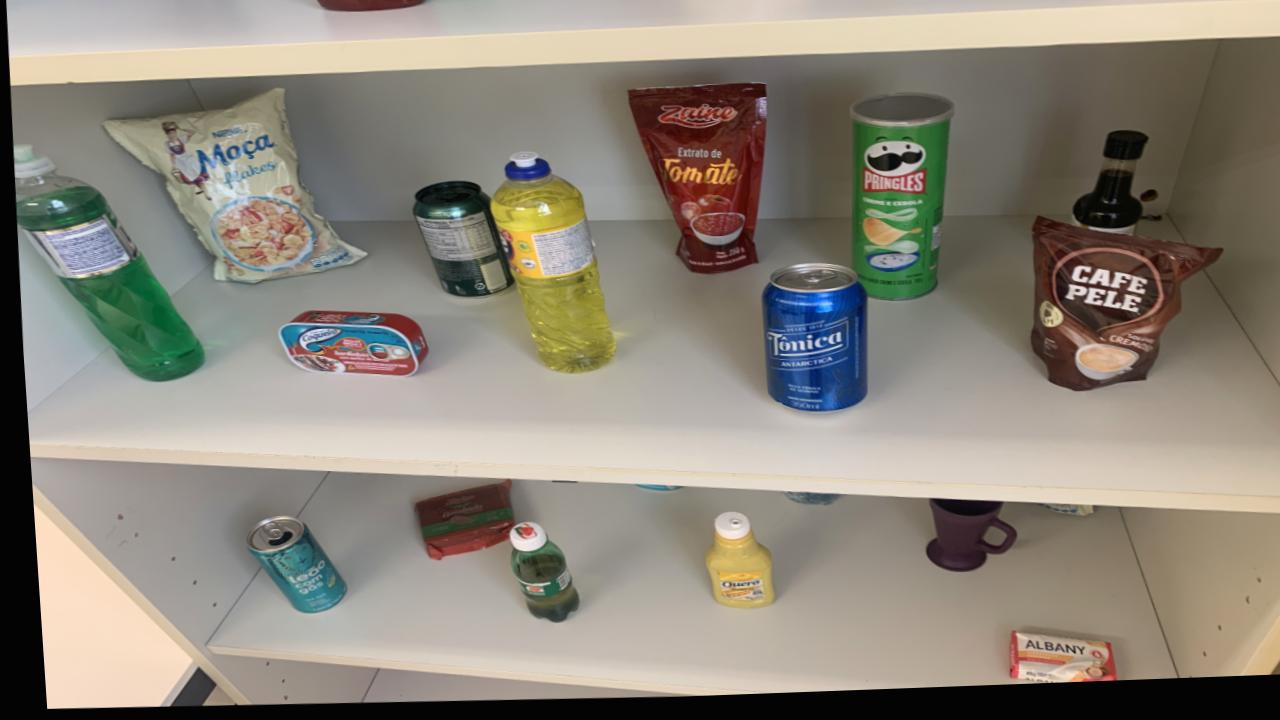Coffee-Pantry_Items: (1027, 224, 1217, 399)
Detergent-Cleanup_Items: (12, 172, 199, 383), (489, 155, 609, 376)
English_Sauce-Pantry_Items: (1068, 139, 1145, 244)
Flakes-Snacks: (103, 91, 363, 284)
Guarana-Drinks: (500, 525, 571, 626)
Guarana_Can-Drinks: (409, 184, 509, 301)
Guava-Snacks: (407, 484, 508, 562)
Mustard-Pantry_Items: (697, 517, 766, 614)
Pringles-Snacks: (847, 100, 952, 307)
Soap-Cleanup_Items: (1000, 639, 1107, 691)
Tea-Drinks: (238, 518, 337, 616)
Tomato_Sauce-Pantry_Items: (628, 89, 766, 279)
Tonic-Drinks: (757, 270, 863, 418)
Tuna_Can-Pantry_Items: (273, 313, 424, 378)
